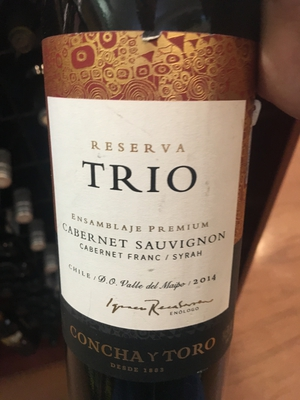trio cabernet sauvignon: (34, 5, 272, 400)
